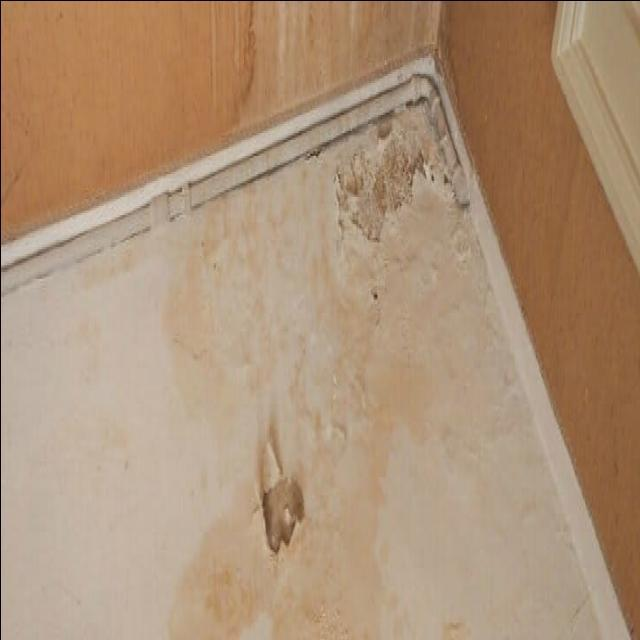leak: (0, 74, 488, 639)
